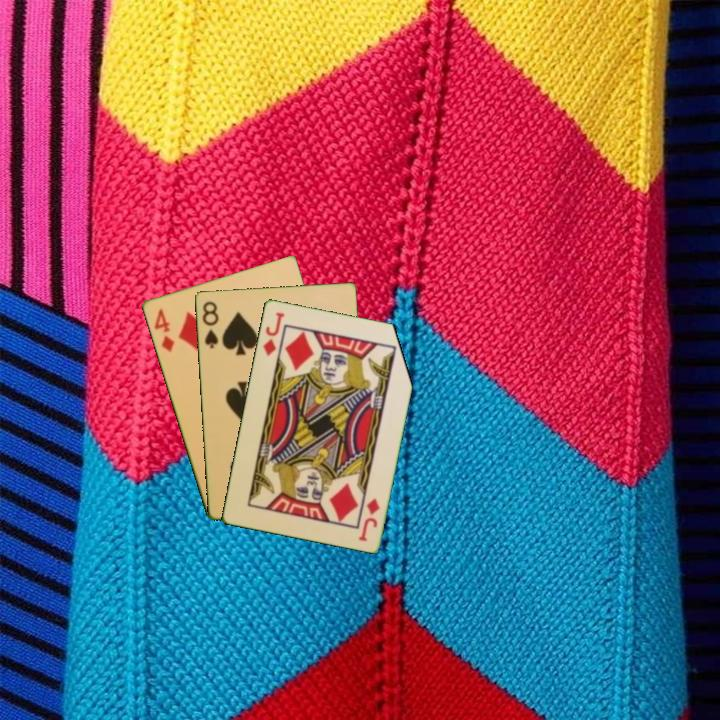4d: (150, 305, 177, 355)
8s: (199, 297, 221, 351)
Jd: (259, 308, 287, 359), (355, 494, 382, 544)
